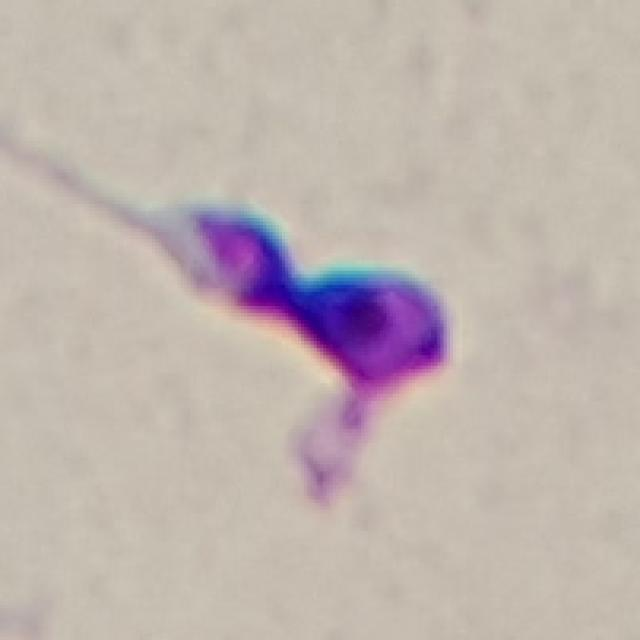abnormal sperm: (52, 168, 454, 394)
